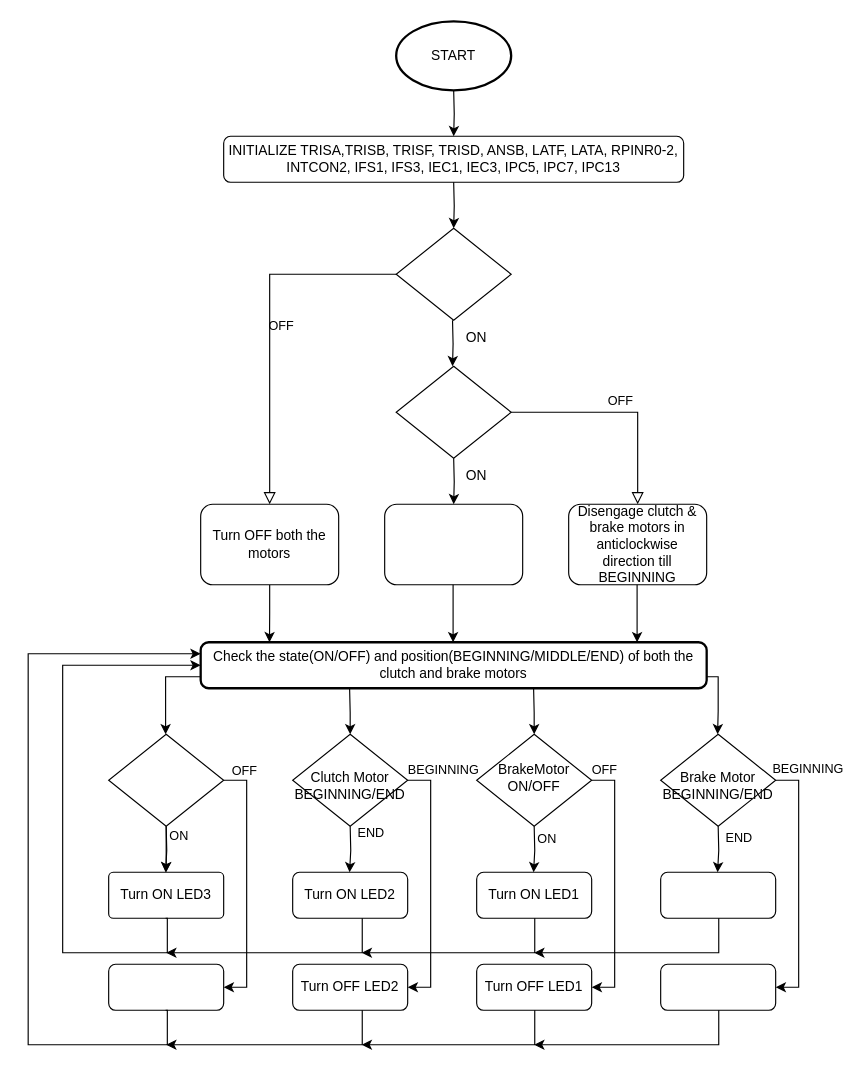
This 863x1074 diagram has some shape labels left out. The shapes that lost their labels are listed below. From the top down, each one's centre as x and y in pixels, then its label:
At point (453, 273): "SpareOnOff Switch".
At point (453, 411): "actuator Release Switch".
At point (453, 544): "Engage clutch & brake motors in clockwise direction till END".
At point (166, 779): "Clutch Motor ON/OFF".
At point (718, 894): "Turn ON LED4".
At point (166, 986): "Turn OFF LED3".
At point (718, 986): "Turn OFF LED4".
